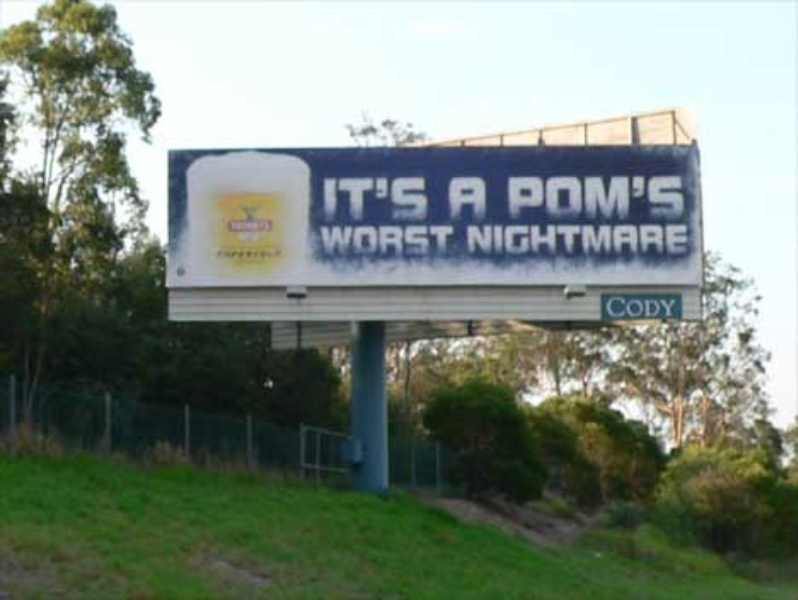text: (337, 176, 352, 222), (353, 176, 368, 222), (369, 176, 384, 222), (385, 176, 400, 222), (401, 176, 416, 222), (449, 176, 464, 222), (465, 176, 480, 222), (513, 176, 528, 222), (529, 176, 544, 222), (545, 176, 560, 222), (561, 176, 576, 222), (577, 176, 592, 222), (593, 176, 608, 222), (609, 176, 624, 222), (625, 176, 640, 222), (641, 176, 656, 222), (657, 176, 672, 222), (323, 176, 336, 222), (673, 176, 686, 222), (673, 224, 689, 256), (417, 176, 428, 222), (481, 224, 496, 256), (497, 224, 512, 256), (513, 224, 528, 256), (529, 224, 544, 256), (545, 224, 560, 256), (561, 224, 576, 256), (577, 224, 592, 256), (593, 224, 608, 256), (609, 224, 624, 256), (625, 224, 640, 256), (641, 224, 656, 256), (657, 224, 672, 256), (321, 226, 336, 256), (337, 226, 352, 256), (353, 226, 368, 256), (369, 226, 384, 256), (385, 226, 400, 256), (401, 226, 416, 256), (417, 226, 432, 256), (433, 226, 448, 256), (468, 224, 480, 256), (481, 176, 488, 222), (609, 297, 624, 318), (625, 297, 640, 318), (641, 297, 656, 318), (657, 297, 672, 318), (507, 176, 512, 222), (449, 226, 456, 256), (225, 248, 240, 260), (241, 248, 256, 260), (257, 248, 272, 260), (241, 222, 256, 231), (257, 222, 272, 231), (229, 222, 240, 231), (273, 248, 280, 260), (673, 297, 676, 318), (219, 248, 224, 260), (447, 176, 448, 222), (606, 297, 608, 318), (319, 226, 320, 256)
